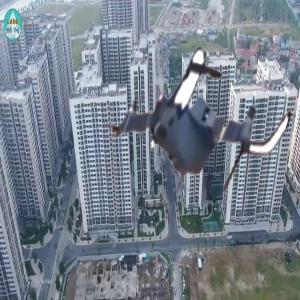drone: (110, 29, 292, 211)
